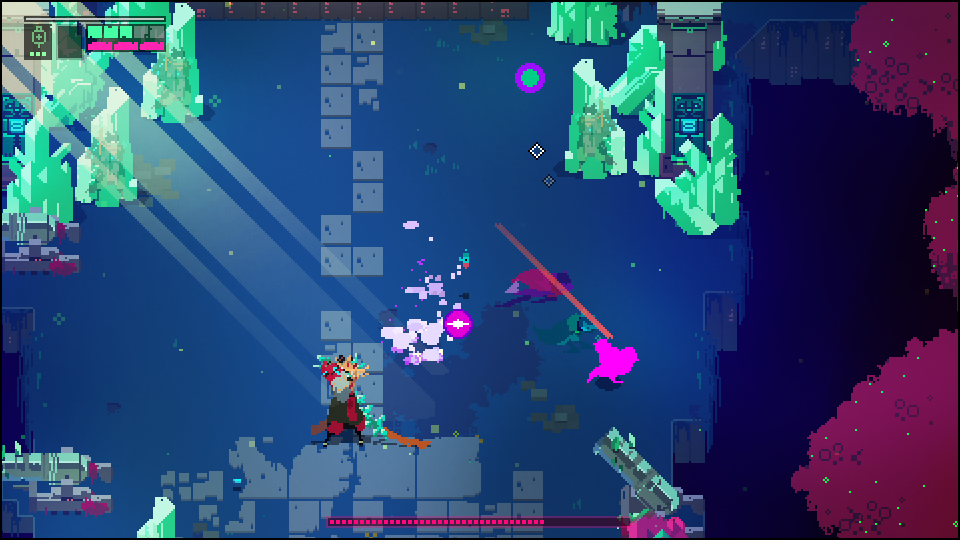hanged_man: (306, 347, 399, 454)
hanged_shot: (511, 62, 546, 96), (442, 307, 473, 344)
player: (588, 337, 639, 390)
